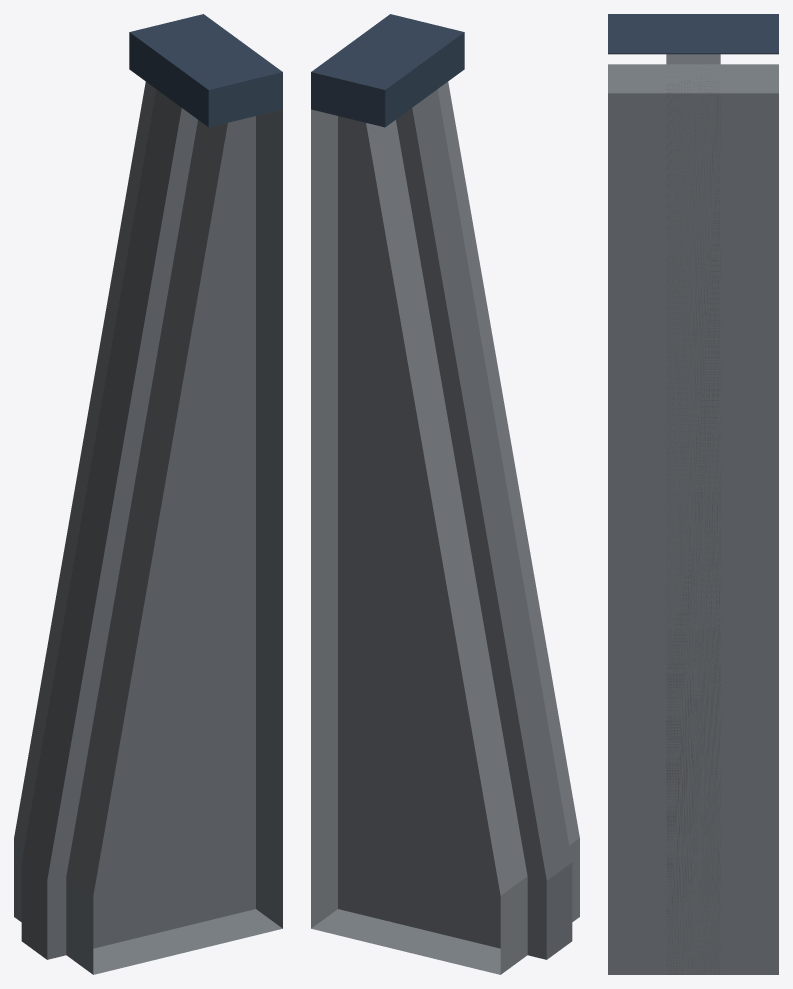
File: GB_Armor.glb
3 renders of one model, left to right at view 1: azimuth 30°, elevation 25°; view 2: azimuth 150°, elevation 25°; view 3: azimuth 270°, elevation 25°, orthographic. The views are drawn at different scales.
Parts seen in each view (by area): view 1: GB_Armor__strake, GB_Armor__glacis, GB_Armor__glacis_cap; view 2: GB_Armor__strake, GB_Armor__glacis, GB_Armor__glacis_cap; view 3: GB_Armor__glacis, GB_Armor__strake, GB_Armor__glacis_cap.
Boxes of the visible parts, x1,y1,x2,y2 form: GB_Armor__strake: (21, 89, 255, 959); GB_Armor__glacis: (14, 81, 282, 974); GB_Armor__glacis_cap: (129, 14, 282, 127); GB_Armor__strake: (338, 89, 572, 959); GB_Armor__glacis: (311, 81, 579, 974); GB_Armor__glacis_cap: (311, 14, 464, 127); GB_Armor__glacis: (608, 64, 778, 974); GB_Armor__strake: (666, 54, 720, 974); GB_Armor__glacis_cap: (608, 14, 778, 54).
Size of the model in its own units: 1.52 by 5.96 by 1.
